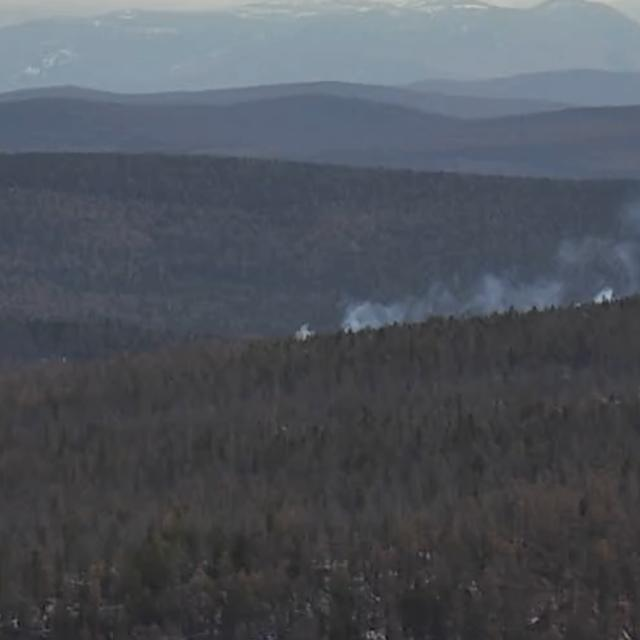Smoke: (285, 197, 640, 339)
